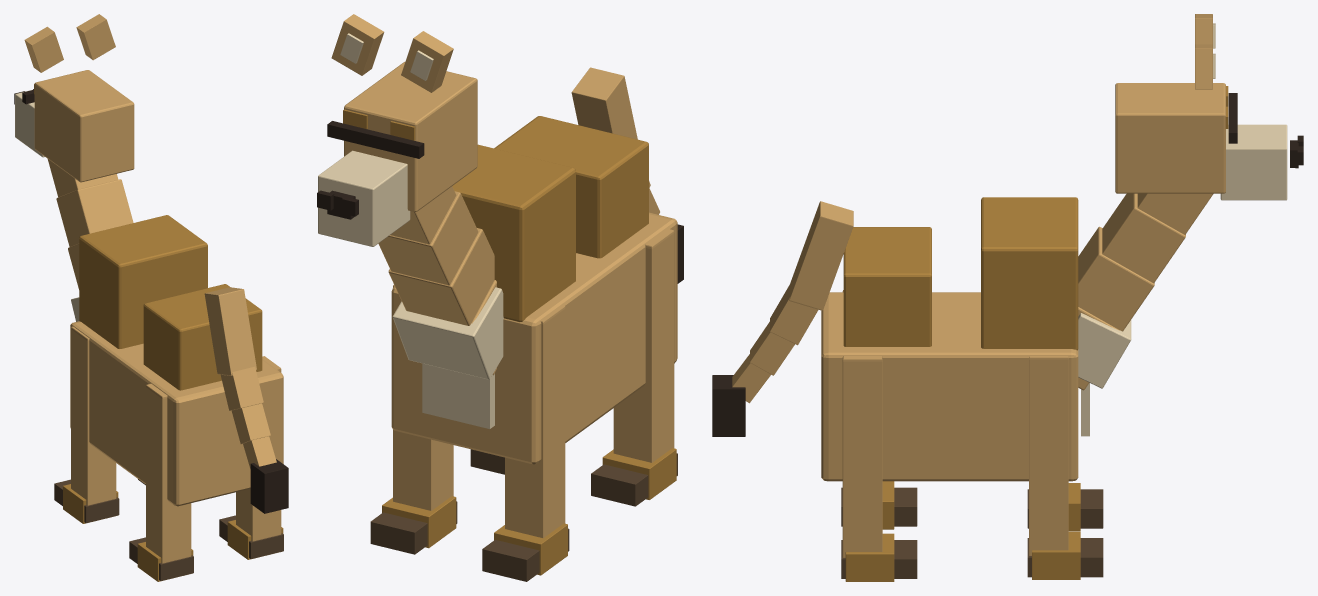
File: camel.glb
3 renders of one model, left to right at view 1: azimuth 30°, elevation 25°; view 2: azimuth 150°, elevation 25°; view 3: azimuth 270°, elevation 25°, orthographic. The views are drawn at different scales.
Parts seen in each view (by area): view 1: body, head, tail, leg.BR, leg.FR, leg.BL, ear.R, ear.L; view 2: body, head, leg.BR, leg.FR, leg.FL, tail, ear.L, ear.R, leg.BL; view 3: body, head, tail, leg.BL, leg.FL, leg.BR, leg.FR, ear.L.
Boxes of the visible parts, x1,y1,x2,y2 form: body: [47, 159, 283, 581]; head: [14, 70, 134, 182]; tail: [204, 287, 288, 513]; leg.BR: [129, 383, 193, 580]; leg.FR: [54, 326, 119, 523]; leg.BL: [219, 356, 283, 558]; ear.R: [24, 26, 63, 72]; ear.L: [76, 14, 115, 60]; body: [378, 116, 677, 575]; head: [317, 62, 477, 246]; leg.BR: [591, 228, 677, 506]; leg.FR: [482, 305, 569, 581]; leg.FL: [370, 285, 457, 554]; tail: [571, 67, 683, 283]; ear.L: [331, 14, 384, 75]; ear.R: [401, 31, 453, 92]; leg.BL: [470, 449, 504, 474]; body: [821, 193, 1213, 581]; head: [1115, 83, 1303, 200]; tail: [712, 201, 853, 436]; leg.BL: [841, 356, 917, 578]; leg.FL: [1027, 356, 1103, 577]; leg.BR: [841, 290, 917, 526]; leg.FR: [1027, 489, 1103, 528]; ear.L: [1195, 44, 1215, 89].
Bounding box in the file's own units: 0.3035 × 0.9999 × 1.04.
